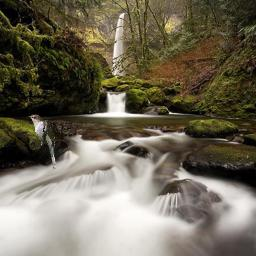Cuckoo: (26, 114, 56, 171)
